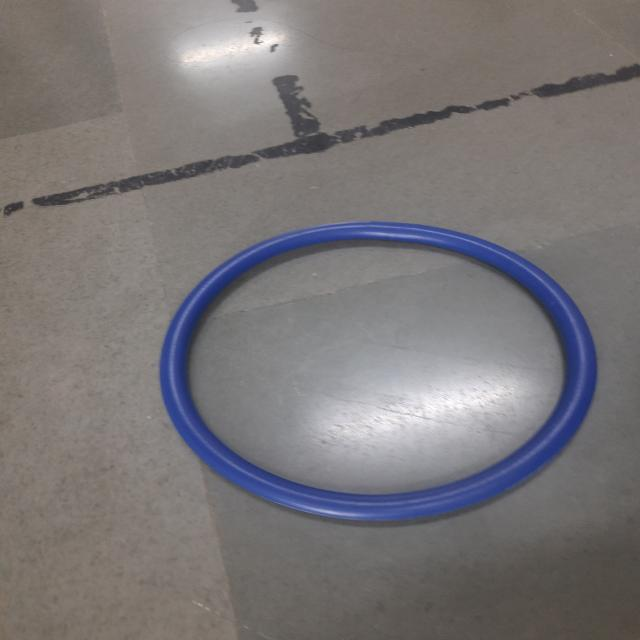daire: (157, 220, 598, 526)
